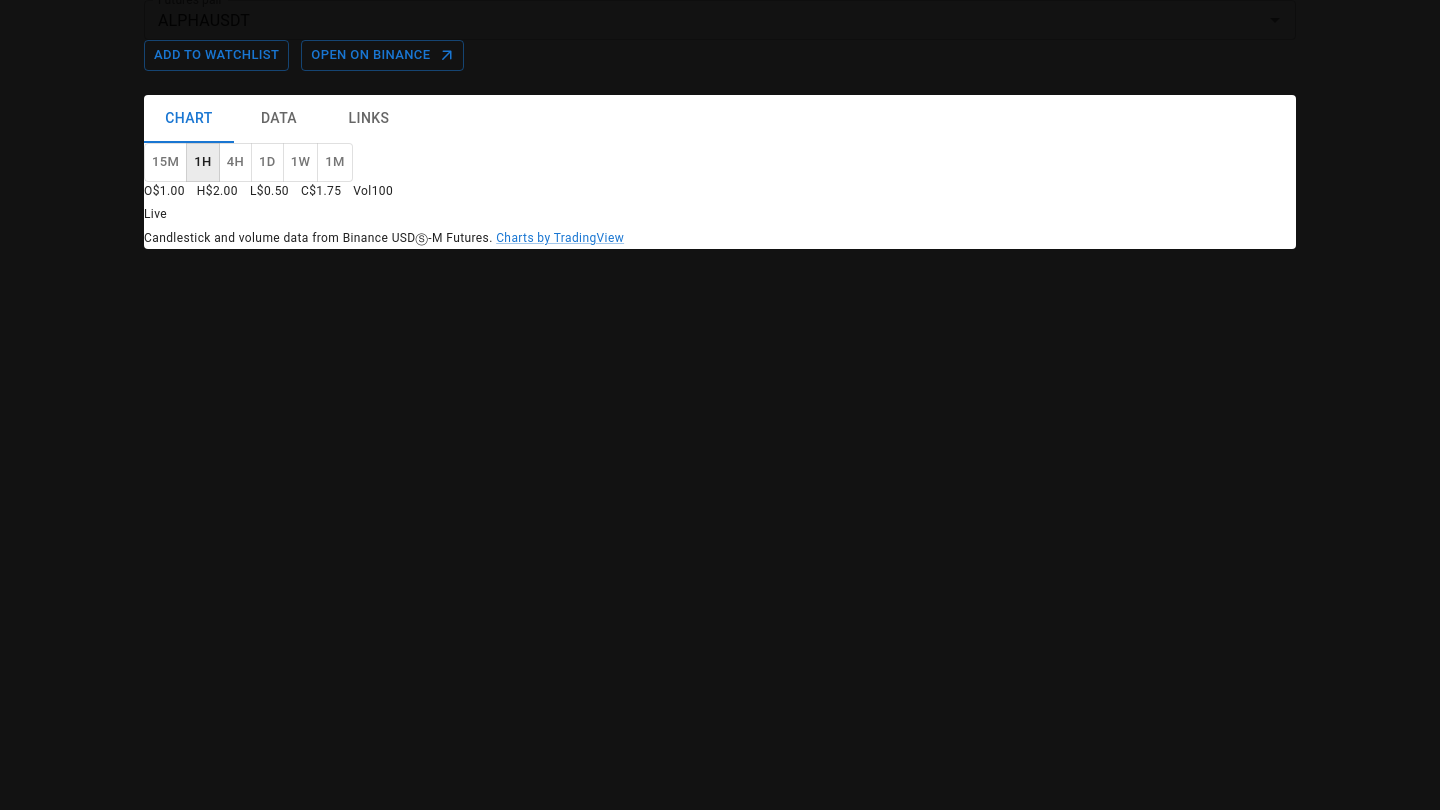
Chart page › updates live status and watchlist state from the chart controls
Later steps or results of the test are not shown.
Expected: the message reads "Live", [144,207,167,221]
Click the button "Add to Watchlist": (217, 55) [144,40,289,71]
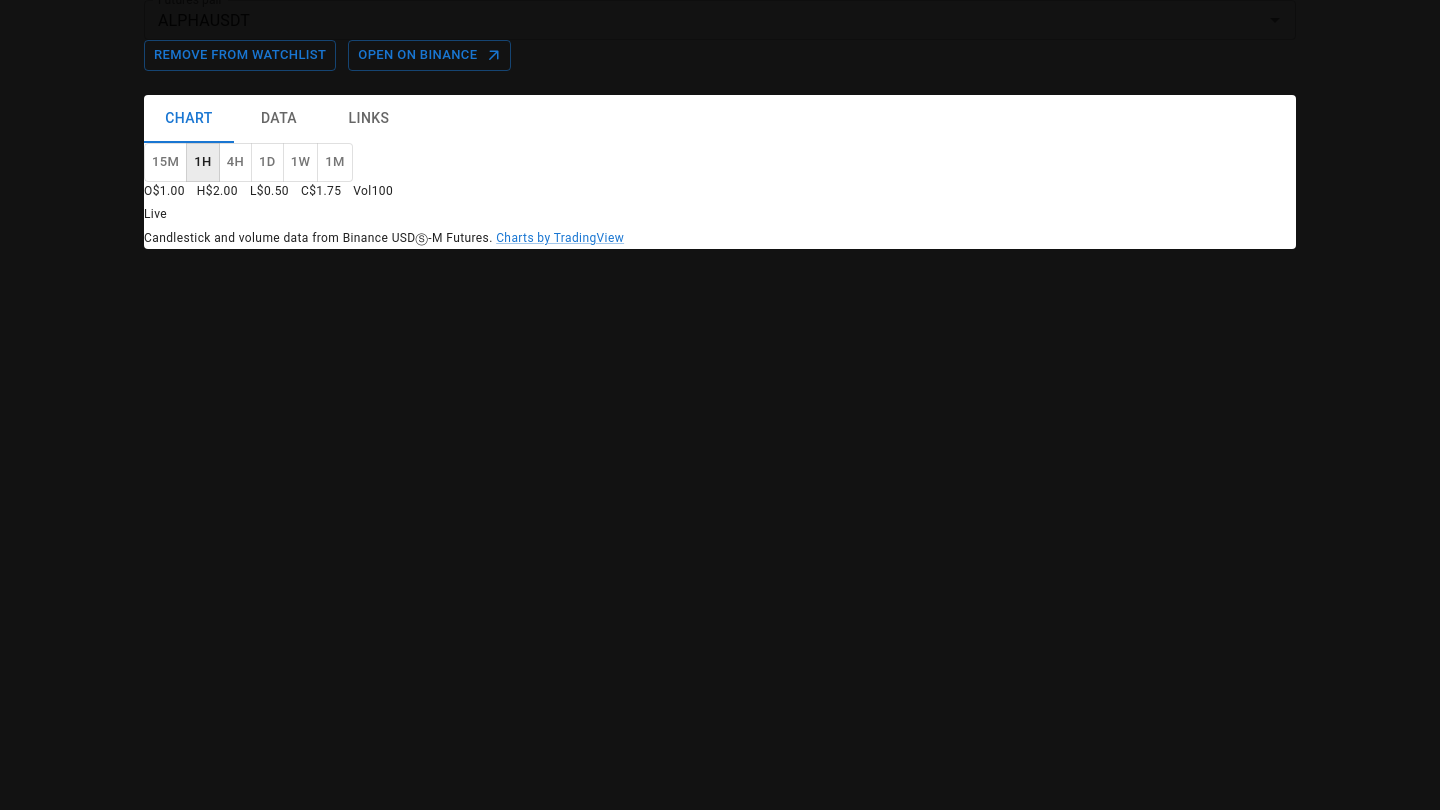
Click the button "Remove from Watchlist": (240, 55) [144,40,336,71]
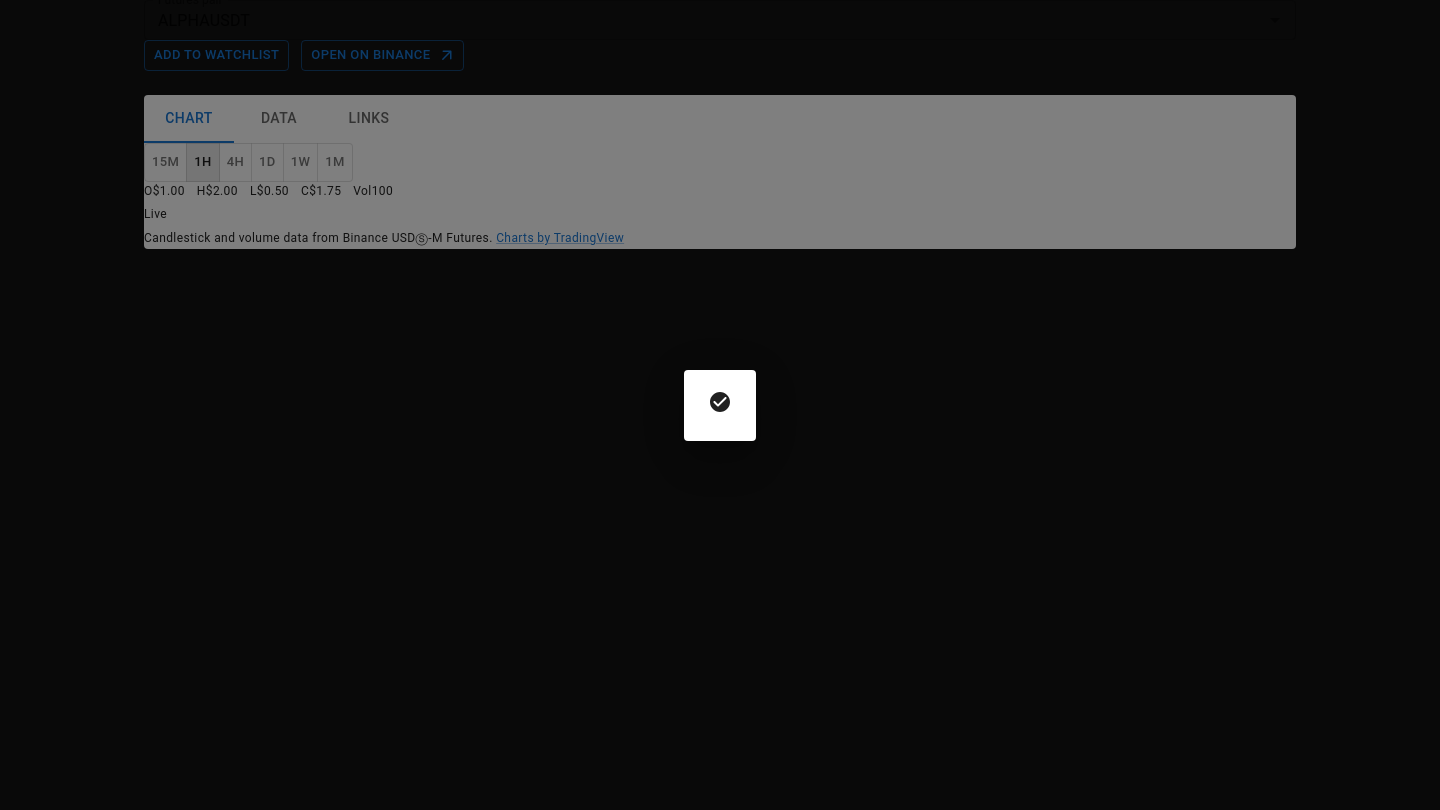
Expected: the dialog named "Removed from watchlist" is shown, [684,370,756,440]
